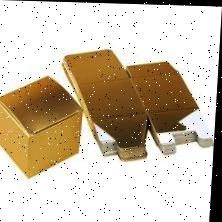cube: (0, 76, 83, 179)
